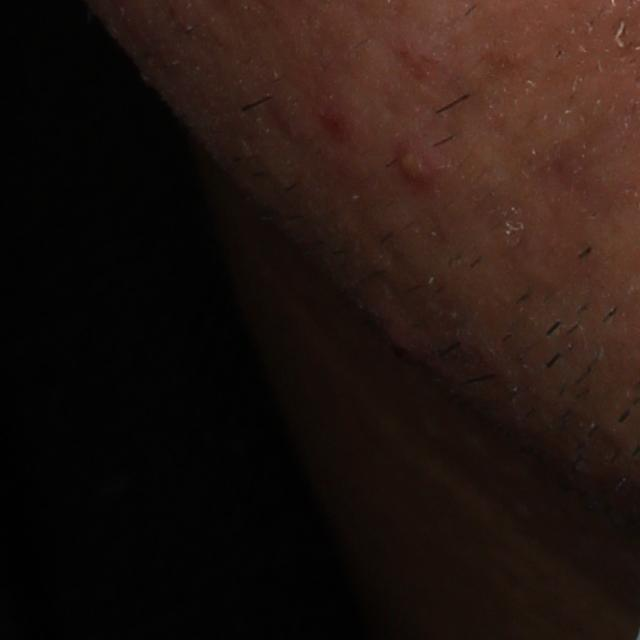pustule: (399, 146, 434, 191)
